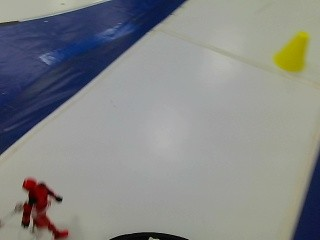cone: (269, 24, 310, 76)
pedestrian: (15, 173, 73, 238)
